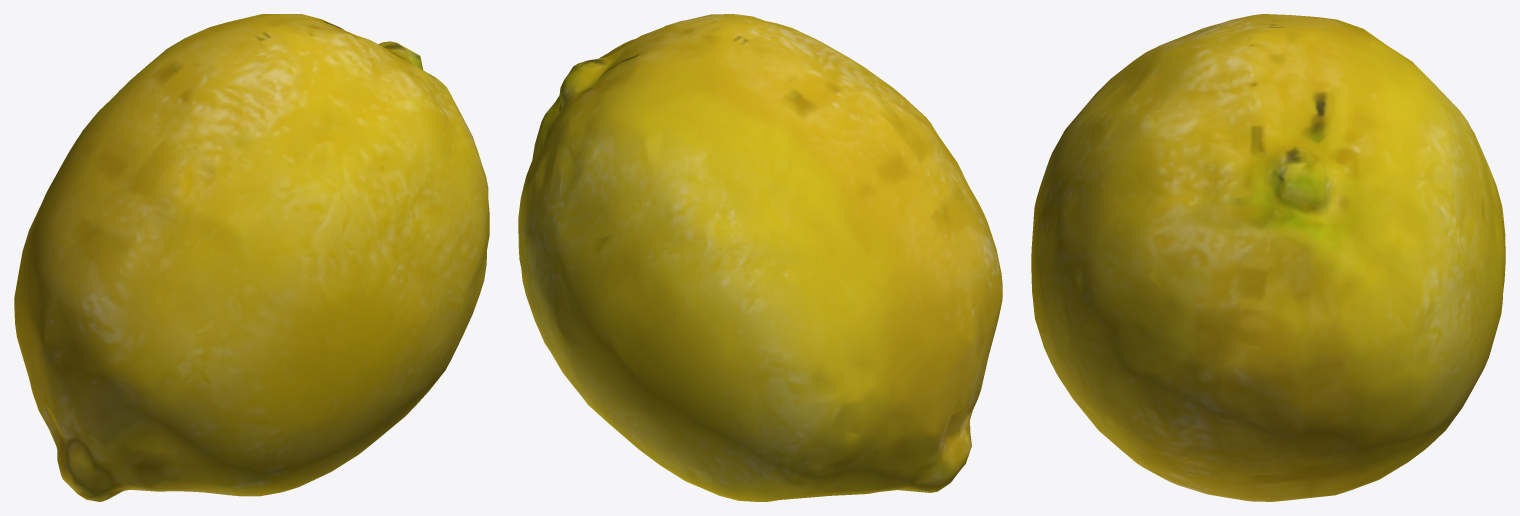
3 renders of one model, left to right at view 1: azimuth 30°, elevation 25°; view 2: azimuth 150°, elevation 25°; view 3: azimuth 270°, elevation 25°, orthographic. The views are drawn at different scales.
Parts seen in each view (by area): view 1: textured.027; view 2: textured.027; view 3: textured.027.
Boxes of the visible parts, bbox=[...] form: textured.027: bbox=[14, 14, 489, 501]; textured.027: bbox=[518, 14, 1002, 501]; textured.027: bbox=[1031, 14, 1505, 501].
Size of the model in its own units: 0.0606 by 0.0593 by 0.053.
Materials: 1 (1 with a texture image).
